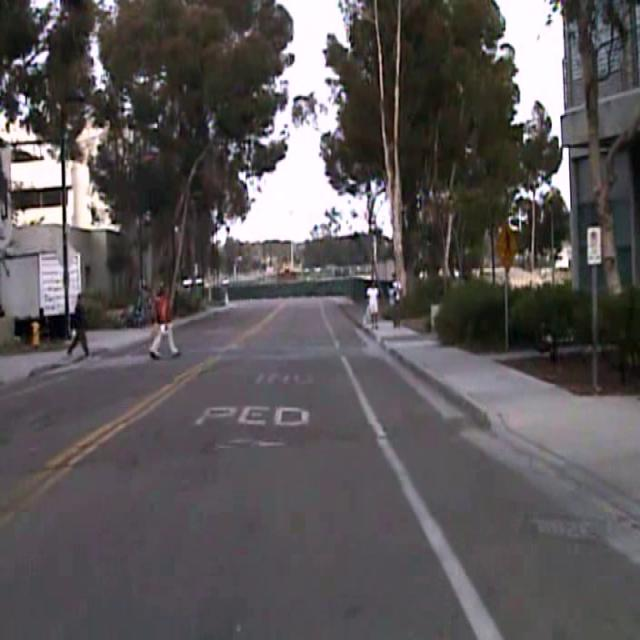pedestrianCrossing: (494, 220, 520, 269)
